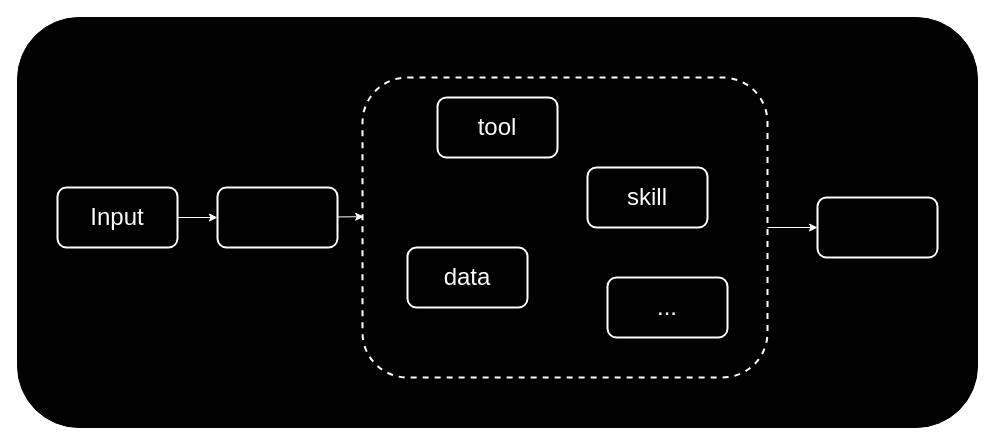
Some shapes in this 995 by 445 pixel diagram are drawn without their labels. Here are the shapes that lost their labels. From the top down, the box of each, then its label:
(216, 186, 338, 248): planning
(816, 196, 938, 258): output
